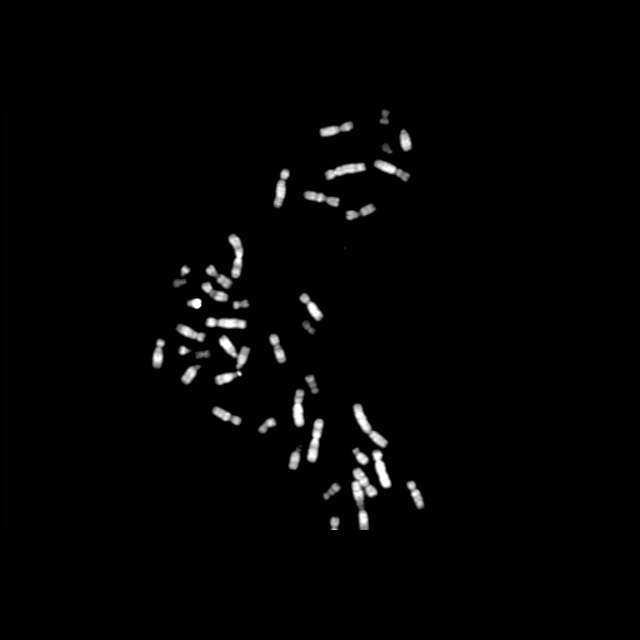chromosome: (352, 402, 388, 448), (351, 480, 372, 530), (306, 418, 326, 464), (374, 159, 412, 181), (227, 235, 245, 278), (372, 450, 392, 488), (325, 163, 367, 181), (352, 468, 378, 497), (272, 168, 290, 208), (299, 292, 323, 322), (304, 189, 338, 209), (206, 262, 232, 288), (269, 332, 287, 366), (320, 120, 354, 138), (202, 282, 230, 302), (212, 407, 242, 425), (407, 479, 425, 508), (219, 334, 239, 360), (177, 324, 205, 342), (206, 318, 247, 330), (347, 203, 375, 220), (294, 388, 306, 426), (216, 370, 244, 386), (181, 365, 203, 385), (152, 339, 166, 369), (352, 444, 370, 466), (322, 482, 342, 501), (289, 446, 303, 472), (234, 346, 250, 368), (300, 318, 318, 336), (258, 417, 276, 435), (306, 374, 320, 394), (400, 130, 412, 152), (378, 108, 392, 125), (327, 516, 341, 532), (178, 263, 192, 277), (186, 297, 202, 309), (233, 299, 249, 309), (196, 348, 210, 359), (178, 345, 190, 357), (174, 278, 186, 288)
